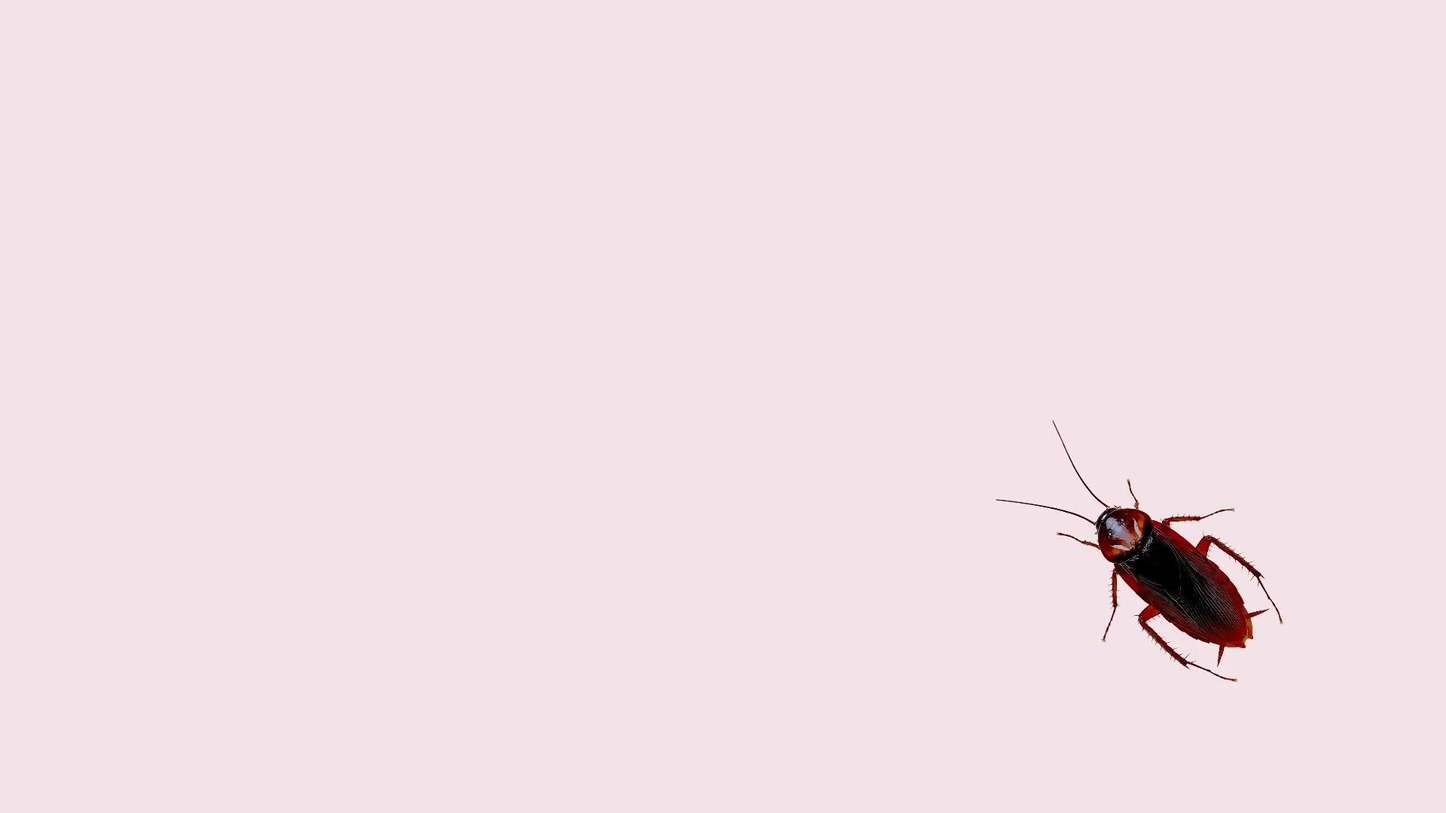cockroach: (976, 450, 1280, 676)
